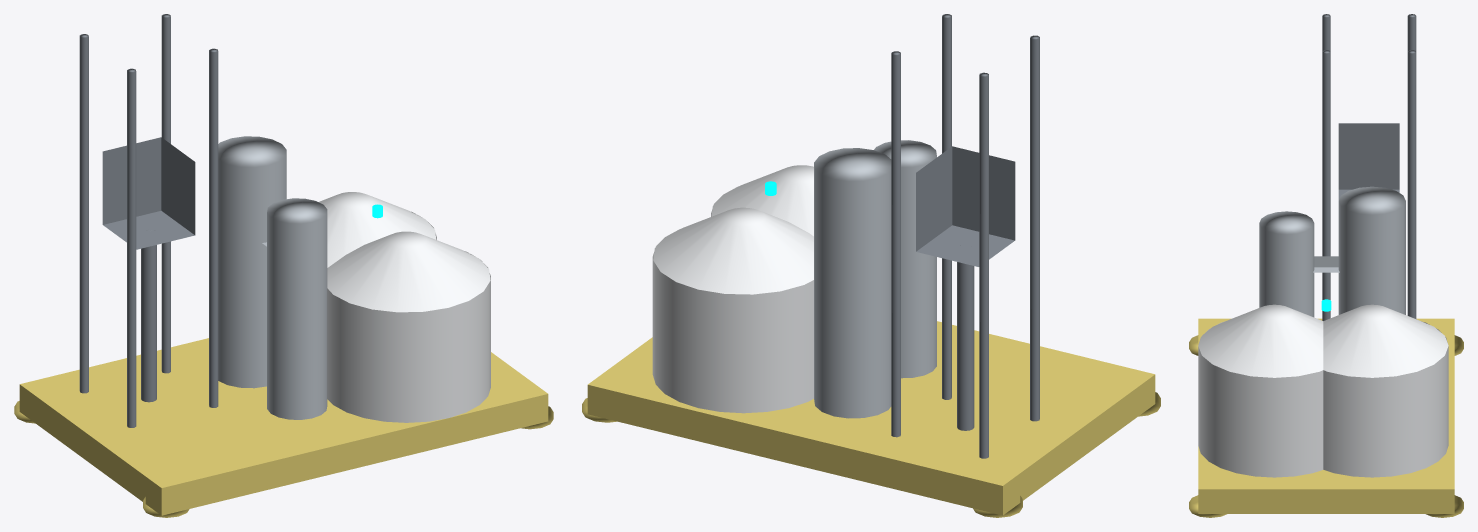
File: isru_plant.glb
3 renders of one model, left to right at view 1: azimuth 30°, elevation 25°; view 2: azimuth 150°, elevation 25°; view 3: azimuth 270°, elevation 25°, orthographic. The views are drawn at different scales.
Parts seen in each view (by area): view 1: EquipmentRoot; view 2: EquipmentRoot; view 3: EquipmentRoot.
Part boxes in pixels (bbox=[...]): EquipmentRoot: bbox=[14, 14, 553, 517]; EquipmentRoot: bbox=[582, 14, 1160, 517]; EquipmentRoot: bbox=[1189, 14, 1463, 517].
Size of the model in its own units: 6.9 by 6.25 by 4.5.
